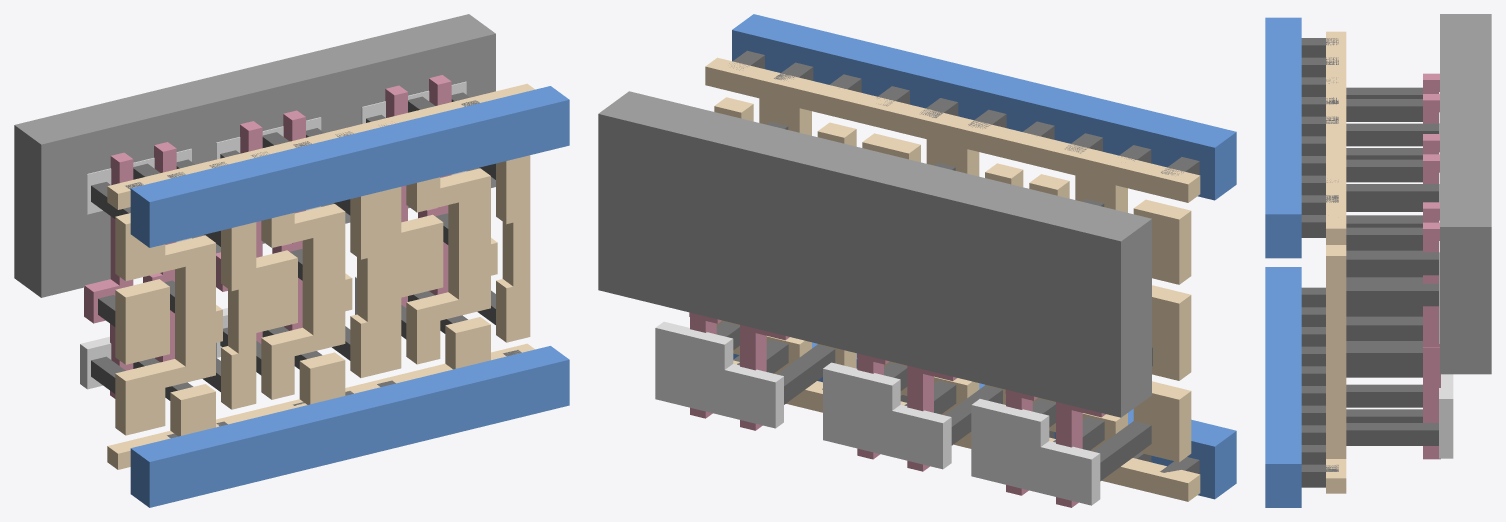
Rendered from sky130_fd_sc_hd__dlymetal6s4s_1.gds.gltf.
The picture shows the model from 3 angles, left to right: view 1: azimuth 30°, elevation 25°; view 2: azimuth 150°, elevation 25°; view 3: azimuth 270°, elevation 25°; orthographic projection. The views are drawn at different scales.
Parts seen in each view (by area): view 1: sky130_fd_sc_hd__dlymetal6s4s_1_li1, sky130_fd_sc_hd__dlymetal6s4s_1_met1, sky130_fd_sc_hd__dlymetal6s4s_1_nwell, sky130_fd_sc_hd__dlymetal6s4s_1_poly, sky130_fd_sc_hd__dlymetal6s4s_1_licon, sky130_fd_sc_hd__dlymetal6s4s_1_diff, sky130_fd_sc_hd__dlymetal6s4s_1_mcon; view 2: sky130_fd_sc_hd__dlymetal6s4s_1_nwell, sky130_fd_sc_hd__dlymetal6s4s_1_li1, sky130_fd_sc_hd__dlymetal6s4s_1_diff, sky130_fd_sc_hd__dlymetal6s4s_1_met1, sky130_fd_sc_hd__dlymetal6s4s_1_licon, sky130_fd_sc_hd__dlymetal6s4s_1_poly, sky130_fd_sc_hd__dlymetal6s4s_1_mcon; view 3: sky130_fd_sc_hd__dlymetal6s4s_1_licon, sky130_fd_sc_hd__dlymetal6s4s_1_nwell, sky130_fd_sc_hd__dlymetal6s4s_1_met1, sky130_fd_sc_hd__dlymetal6s4s_1_mcon, sky130_fd_sc_hd__dlymetal6s4s_1_li1, sky130_fd_sc_hd__dlymetal6s4s_1_poly, sky130_fd_sc_hd__dlymetal6s4s_1_diff.
Boxes of the visible parts, bbox=[...] form: sky130_fd_sc_hd__dlymetal6s4s_1_li1: bbox=[107, 83, 534, 469]; sky130_fd_sc_hd__dlymetal6s4s_1_met1: bbox=[130, 86, 569, 507]; sky130_fd_sc_hd__dlymetal6s4s_1_nwell: bbox=[14, 14, 495, 297]; sky130_fd_sc_hd__dlymetal6s4s_1_poly: bbox=[84, 75, 451, 398]; sky130_fd_sc_hd__dlymetal6s4s_1_licon: bbox=[91, 92, 495, 400]; sky130_fd_sc_hd__dlymetal6s4s_1_diff: bbox=[80, 81, 466, 389]; sky130_fd_sc_hd__dlymetal6s4s_1_mcon: bbox=[125, 100, 521, 438]; sky130_fd_sc_hd__dlymetal6s4s_1_nwell: bbox=[598, 91, 1151, 417]; sky130_fd_sc_hd__dlymetal6s4s_1_li1: bbox=[705, 57, 1200, 501]; sky130_fd_sc_hd__dlymetal6s4s_1_diff: bbox=[655, 321, 1100, 505]; sky130_fd_sc_hd__dlymetal6s4s_1_met1: bbox=[732, 14, 1236, 499]; sky130_fd_sc_hd__dlymetal6s4s_1_licon: bbox=[716, 122, 1152, 481]; sky130_fd_sc_hd__dlymetal6s4s_1_poly: bbox=[689, 312, 1105, 507]; sky130_fd_sc_hd__dlymetal6s4s_1_mcon: bbox=[729, 50, 1199, 473]; sky130_fd_sc_hd__dlymetal6s4s_1_licon: bbox=[1346, 87, 1438, 445]; sky130_fd_sc_hd__dlymetal6s4s_1_nwell: bbox=[1440, 14, 1491, 374]; sky130_fd_sc_hd__dlymetal6s4s_1_met1: bbox=[1265, 17, 1301, 507]; sky130_fd_sc_hd__dlymetal6s4s_1_mcon: bbox=[1301, 38, 1338, 487]; sky130_fd_sc_hd__dlymetal6s4s_1_li1: bbox=[1326, 31, 1346, 493]; sky130_fd_sc_hd__dlymetal6s4s_1_poly: bbox=[1423, 73, 1440, 459]; sky130_fd_sc_hd__dlymetal6s4s_1_diff: bbox=[1439, 92, 1453, 458].
Bounding box in the file's own units: 4.98 × 3.2 × 2.24.
